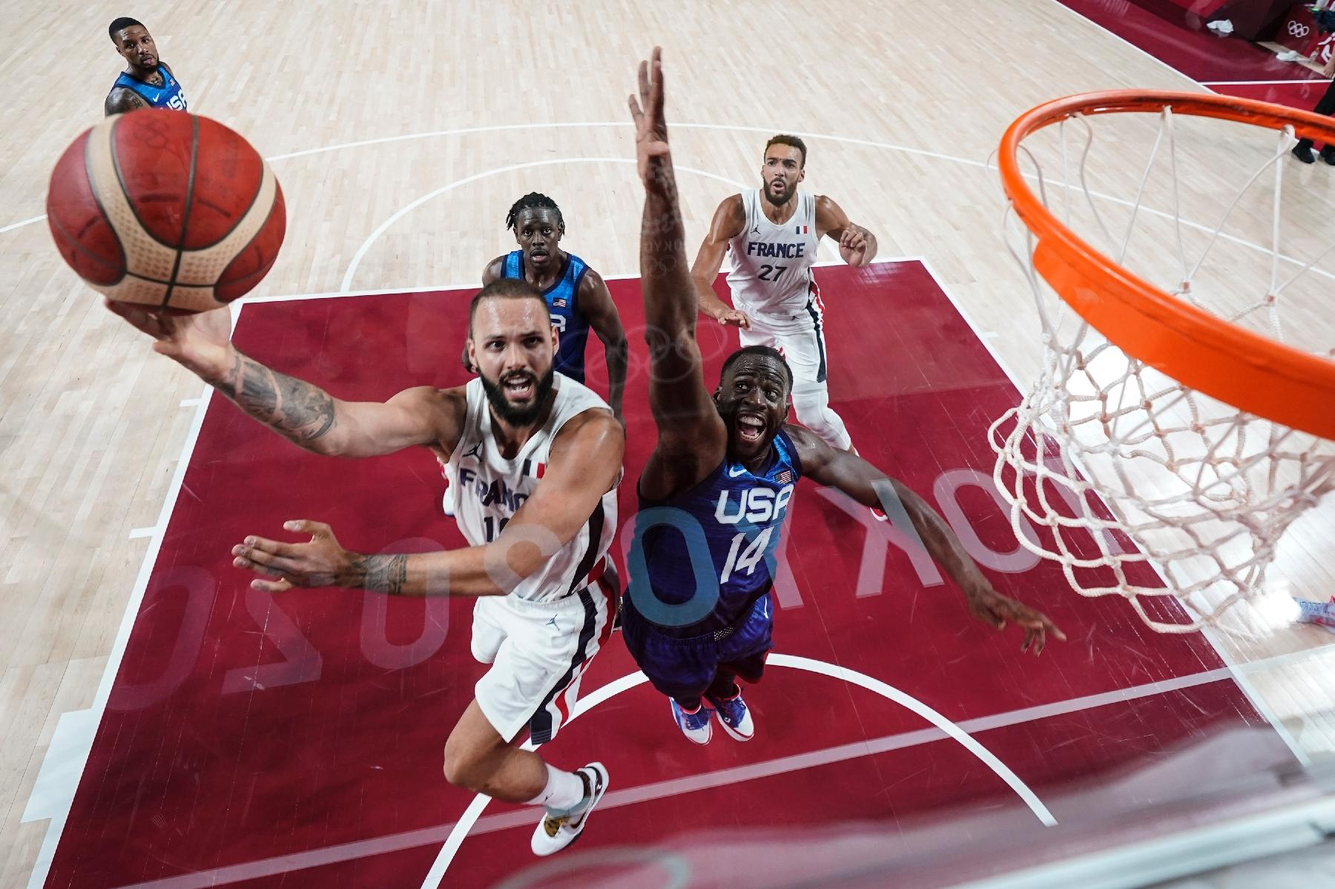basketball: (48, 108, 288, 314)
